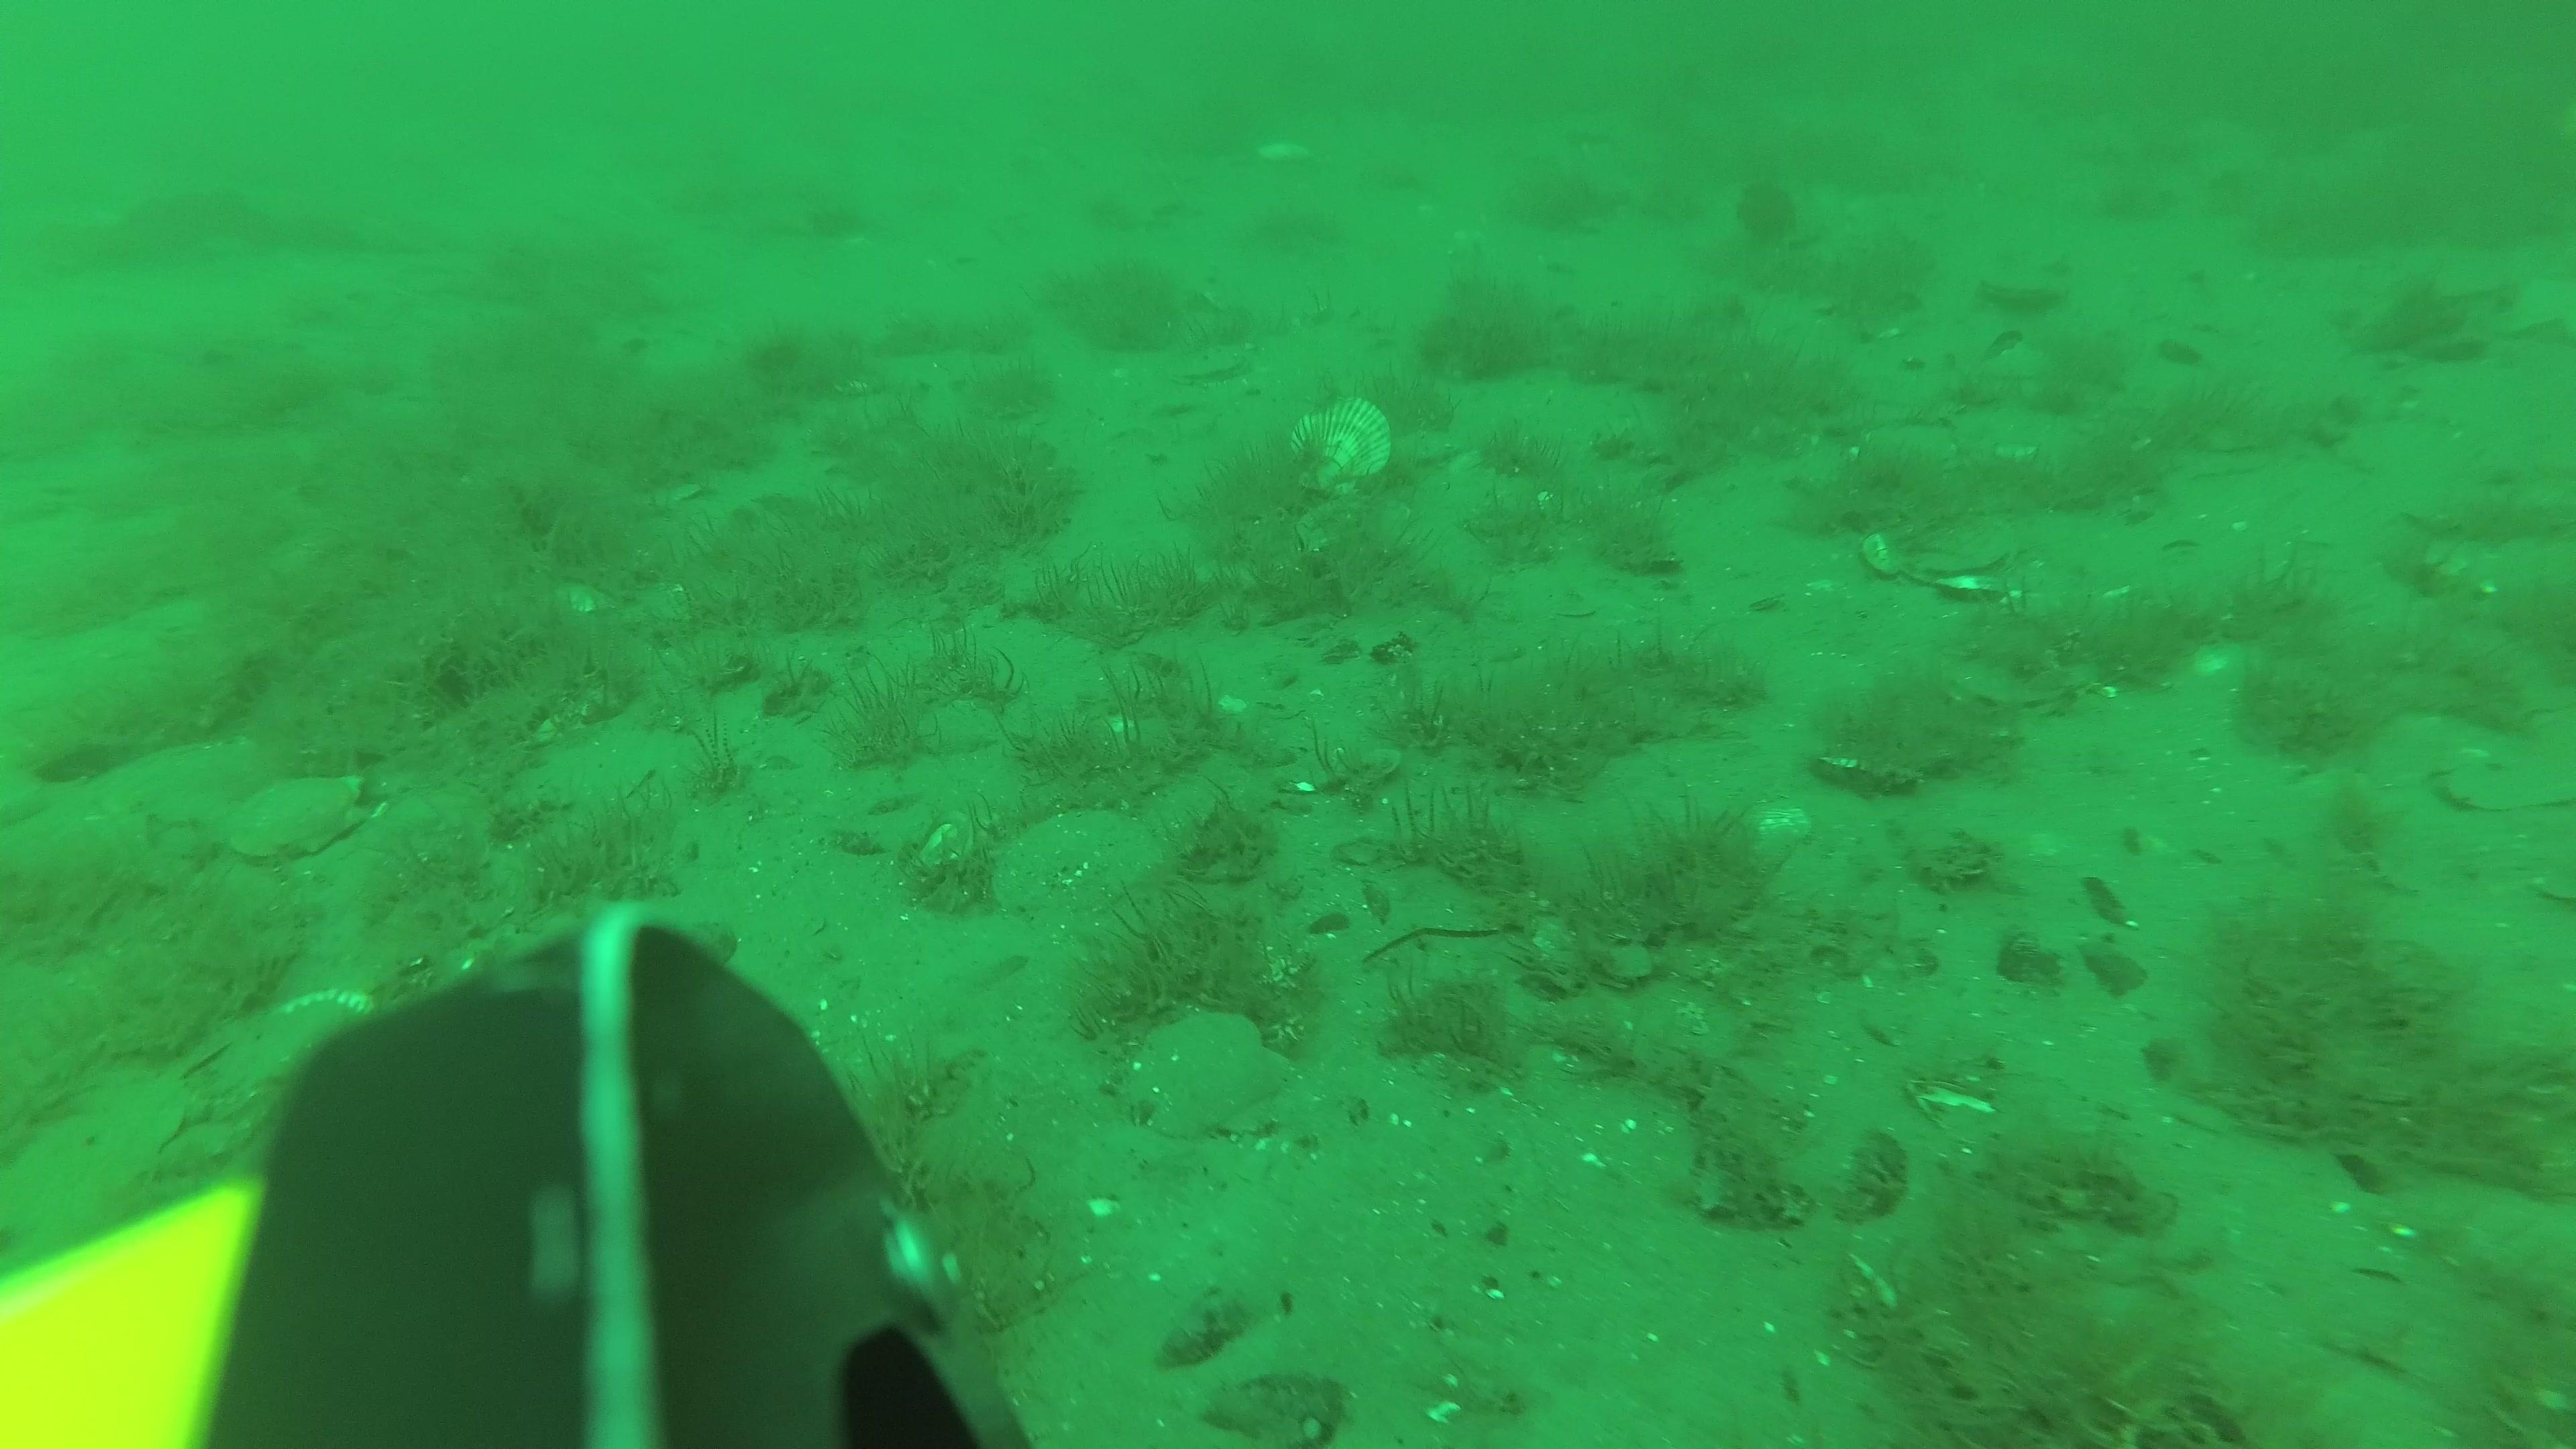scallop: (1118, 1005, 1297, 1132), (1863, 515, 2017, 598), (228, 773, 366, 858), (1276, 396, 1385, 488)
